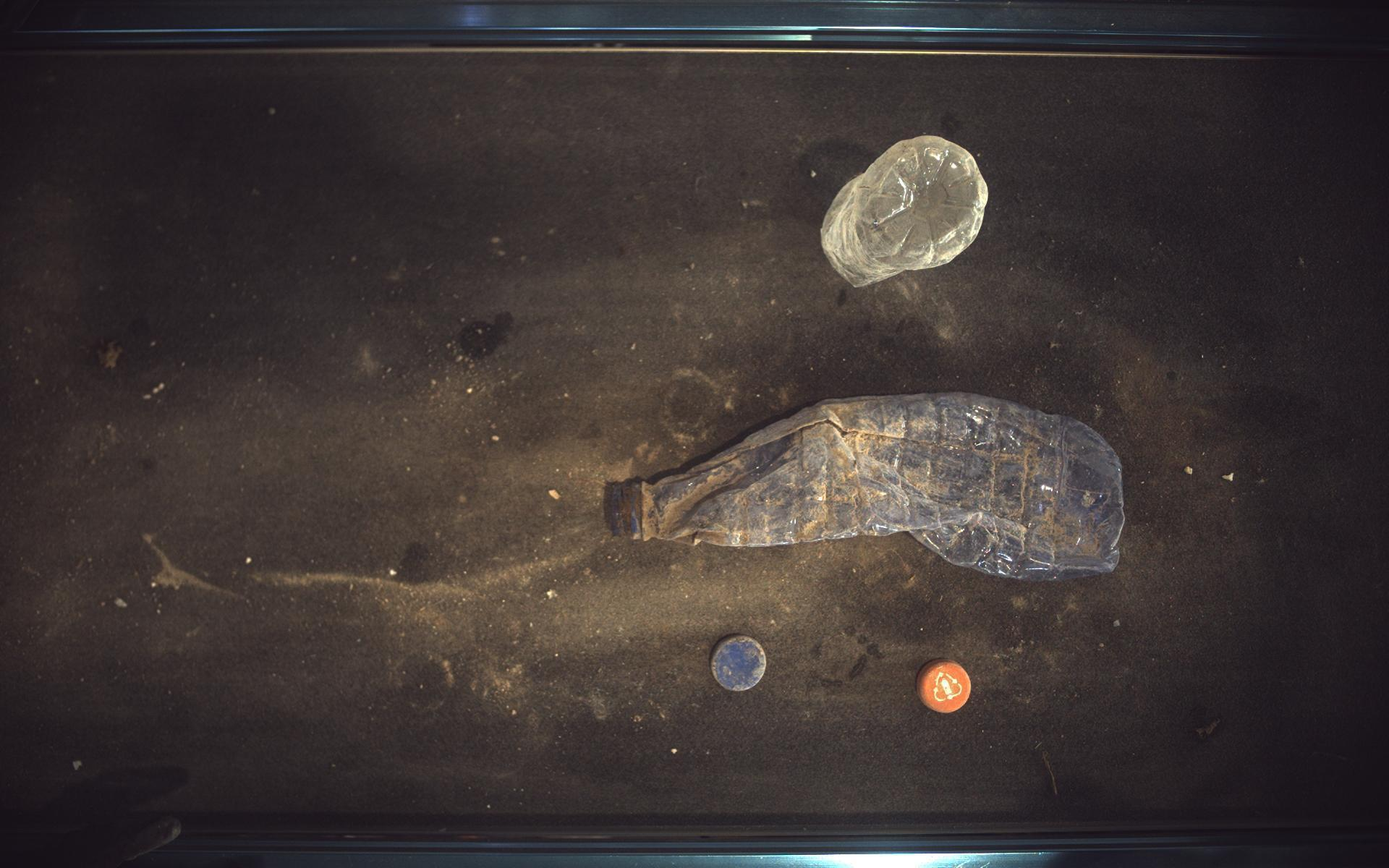general_w: (606, 393, 1127, 581), (823, 135, 990, 286), (713, 637, 768, 692), (919, 660, 973, 715)
